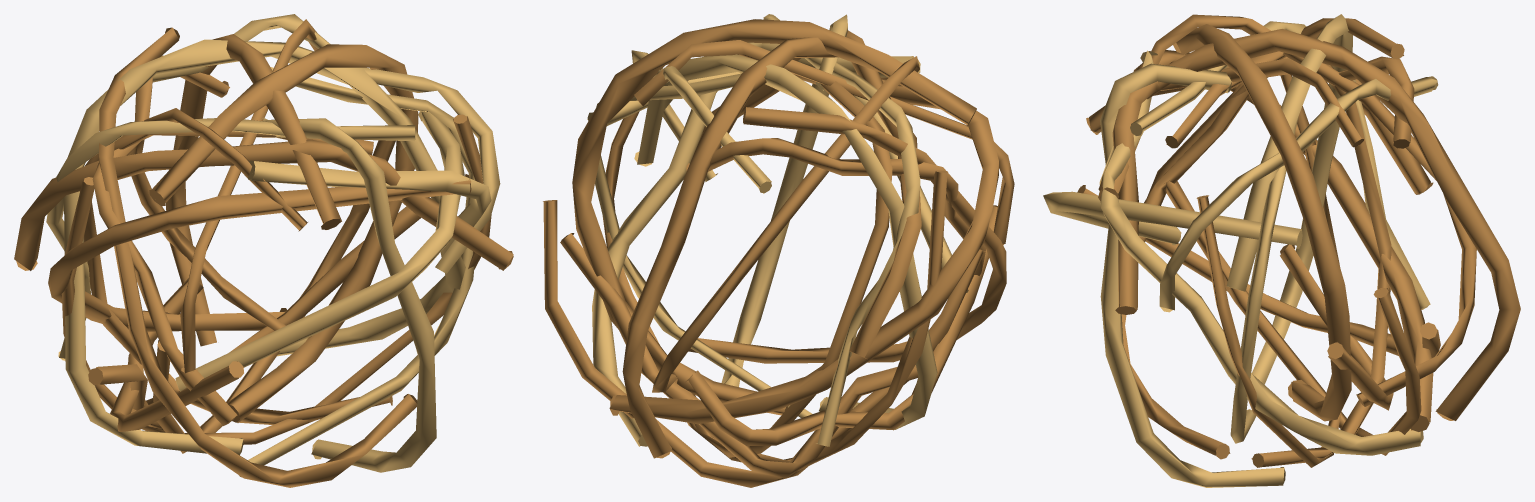
File: tumbleweed.glb
3 renders of one model, left to right at view 1: azimuth 30°, elevation 25°; view 2: azimuth 150°, elevation 25°; view 3: azimuth 270°, elevation 25°, orthographic. The views are drawn at different scales.
Parts seen in each view (by area): view 1: tumbleweed; view 2: tumbleweed; view 3: tumbleweed.
Boxes of the visible parts, box(x1,y1,x2,y2) form: tumbleweed: box(14, 14, 513, 487); tumbleweed: box(543, 14, 1014, 487); tumbleweed: box(1043, 14, 1520, 487).
Size of the model in its own units: 1.3 by 1.29 by 1.33.
